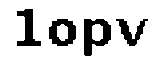1: (12, 6, 45, 49)
o: (48, 16, 80, 51)
p: (83, 16, 115, 60)
v: (115, 14, 155, 53)
